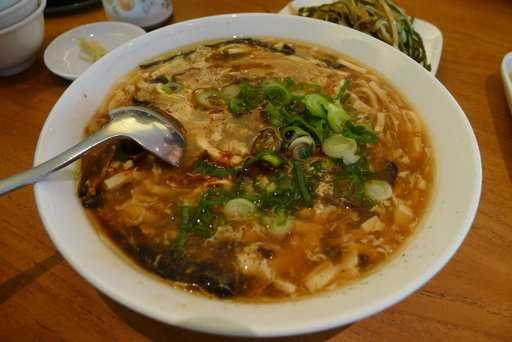soup: (96, 29, 414, 296)
